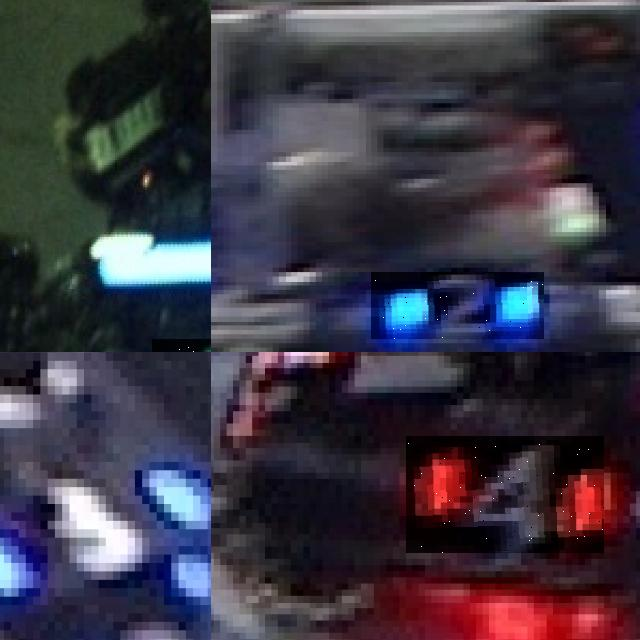B2: (371, 272, 544, 339)
R4: (406, 436, 604, 553)
